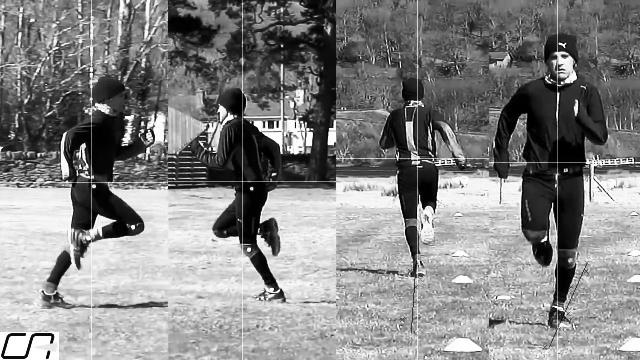berlari: (497, 30, 609, 334), (35, 77, 152, 312), (190, 85, 306, 303), (380, 70, 470, 282)
